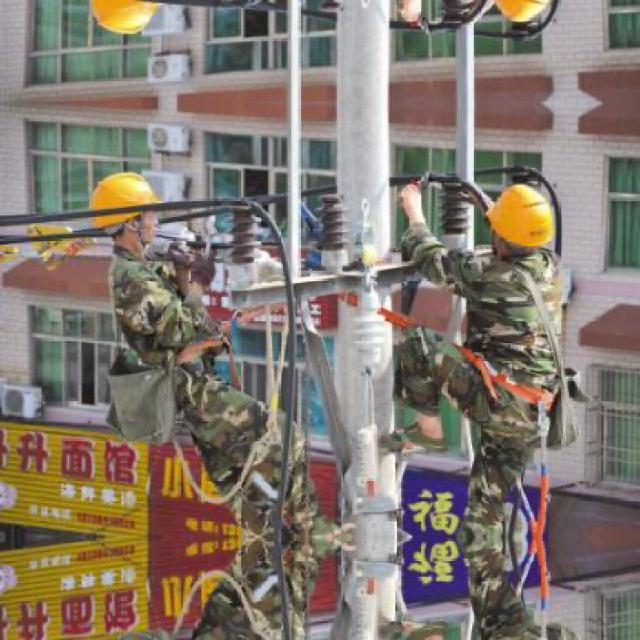helmet: (82, 162, 166, 252), (483, 175, 559, 254), (80, 0, 166, 40), (482, 0, 558, 26)
